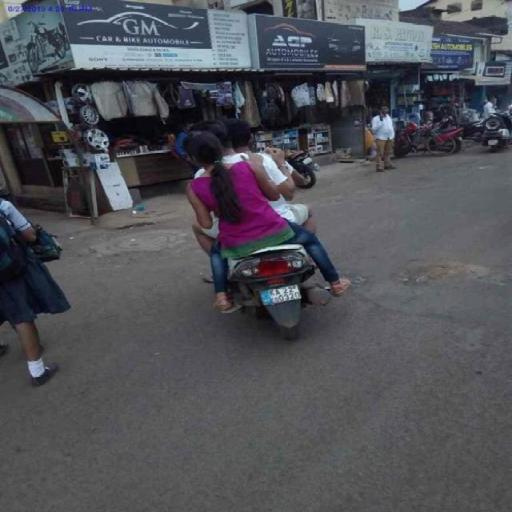tripple riding: (168, 109, 314, 245)
